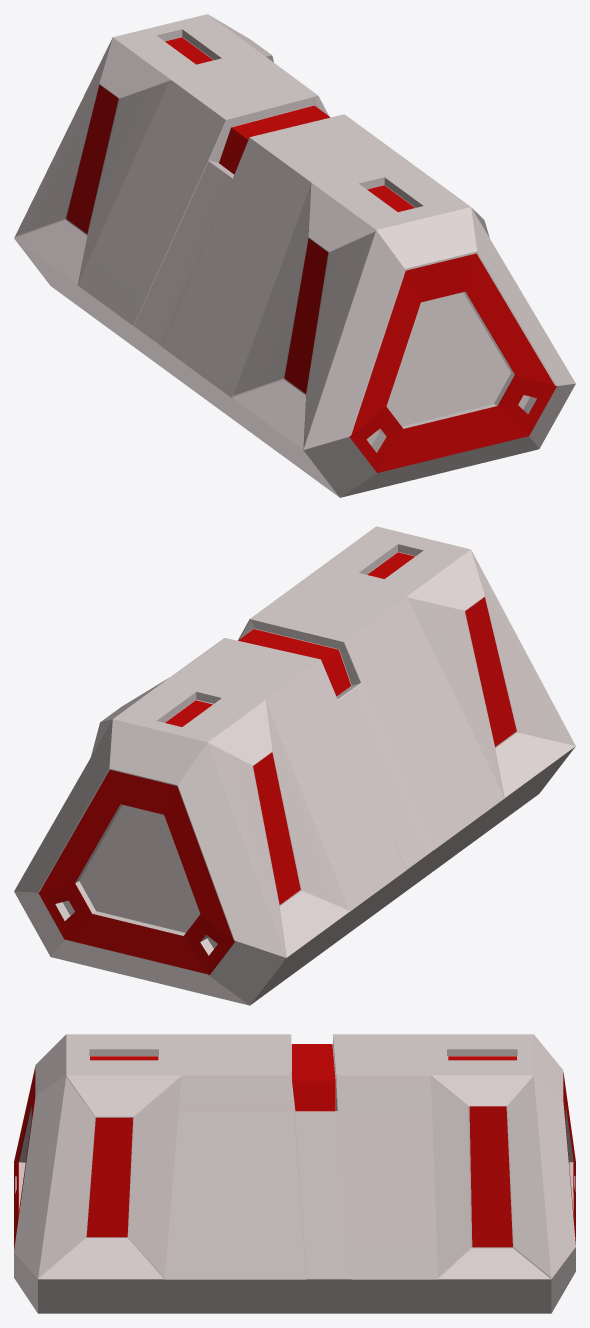
Rendered from Cajon.fbx.
The picture shows the model from 3 angles, top to bottom: view 1: azimuth 30°, elevation 25°; view 2: azimuth 150°, elevation 25°; view 3: azimuth 270°, elevation 25°; orthographic projection. The views are drawn at different scales.
Visible parts, largest first — view 1: pCube2; view 2: pCube2; view 3: pCube2.
Boxes of the visible parts, bbox=[...] form: pCube2: bbox=[14, 14, 575, 497]; pCube2: bbox=[14, 526, 575, 1005]; pCube2: bbox=[14, 1034, 575, 1313].
Bounding box in the file's own units: 7.35 × 6.27 × 14.8.
